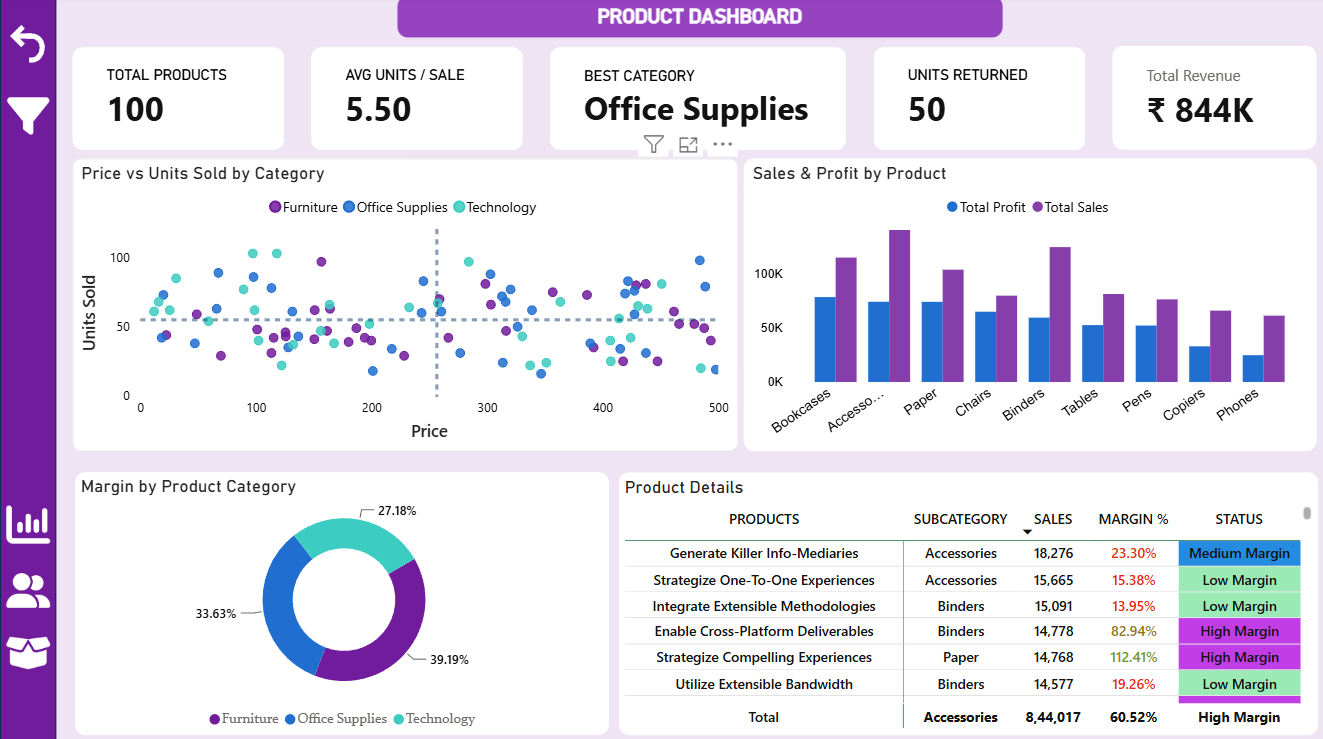

Layout of this report page (visuals, bound fields, positions):
{"tool":"powerbi","page":{"name":"Products Dashboard","canvas":[1280,720],"ordinal":2},"visuals":[{"type":"cardVisual","fields":{"Data":["Measures (2).Total Products"]},"box":[70.1,49.7,203.9,98.9],"z":0},{"type":"cardVisual","fields":{"Data":["Measures (2).Units Returned"]},"box":[843.5,49.7,203.9,98.9],"z":1000},{"type":"cardVisual","fields":{"Data":["Measures (2).Avg Units Per Sale"]},"box":[300.6,49.7,203.9,98.9],"z":2000},{"type":"cardVisual","fields":{"Data":["Measures (2).Best Category (by Sales)"]},"box":[531,49.7,285.9,98.9],"z":3000},{"type":"scatterChart","title":"Price vs Units Sold by Category","fields":{"Y":["Measures (2).Total Units Sold"],"X":["Product_Dim.Price"],"Series":["Product_Dim.Category"]},"box":[70.2,157.4,642.5,282.2],"z":4000},{"type":"clusteredColumnChart","title":"Sales & Profit by Product","fields":{"Y":["Measures (2).Total Profit","Measures (2).Total Sales"],"Category":["Product_Dim.SubCategory"]},"box":[717.9,157.4,552.7,282.2],"z":5000},{"type":"donutChart","title":"Margin by Product Category","fields":{"Y":["Measures (2).Profit Margin %"],"Category":["Product_Dim.Category"]},"box":[72.8,459.1,515,253.6],"z":6000},{"type":"pivotTable","title":"Product Details","fields":{"Rows":["Product_Dim.ProductName"],"Values":["Min(Product_Dim.SubCategory)","Measures (2).Total Sales","Measures (2).Profit Margin %","Measures (2).Profit Margin Classification"]},"box":[597,459.1,675,253.6],"z":7000},{"type":"shape","box":[0,0,54.3,720.2],"z":8000},{"type":"cardVisual","fields":{"Data":["Measures (2).Total Revenue"]},"box":[1073.9,48.4,196.6,100.1],"z":9000},{"type":"textbox","box":[383.6,0,583.9,39.8],"z":10000},{"type":"image","box":[6,615.3,42.2,37.4],"z":11000},{"type":"image","box":[6,97.7,42.2,36.2],"z":12000},{"type":"image","box":[6,548.9,42.2,49.5],"z":13000},{"type":"image","box":[6,486.2,42.2,48.3],"z":14000},{"type":"actionButton","box":[0,22.3,53.4,45.9],"z":15000}]}

Visuals, with their boxes on the page's 1280x720 design canvas (x1, y1, x2, y2). These are canvas units, not pixel positions in the 1323x739 screenshot, which may show the page scaled, cropped or inside an application window:
cardVisual - Measures (2).Total Products: locate(70, 50, 274, 149)
cardVisual - Measures (2).Units Returned: locate(844, 50, 1047, 149)
cardVisual - Measures (2).Avg Units Per Sale: locate(301, 50, 504, 149)
cardVisual - Measures (2).Best Category (by Sales): locate(531, 50, 817, 149)
"Price vs Units Sold by Category" scatterChart: locate(70, 157, 713, 440)
"Sales & Profit by Product" clusteredColumnChart: locate(718, 157, 1271, 440)
"Margin by Product Category" donutChart: locate(73, 459, 588, 713)
"Product Details" pivotTable: locate(597, 459, 1272, 713)
shape: locate(0, 0, 54, 720)
cardVisual - Measures (2).Total Revenue: locate(1074, 48, 1270, 148)
textbox: locate(384, 0, 968, 40)
image: locate(6, 615, 48, 653)
image: locate(6, 98, 48, 134)
image: locate(6, 549, 48, 598)
image: locate(6, 486, 48, 534)
actionButton: locate(0, 22, 53, 68)
